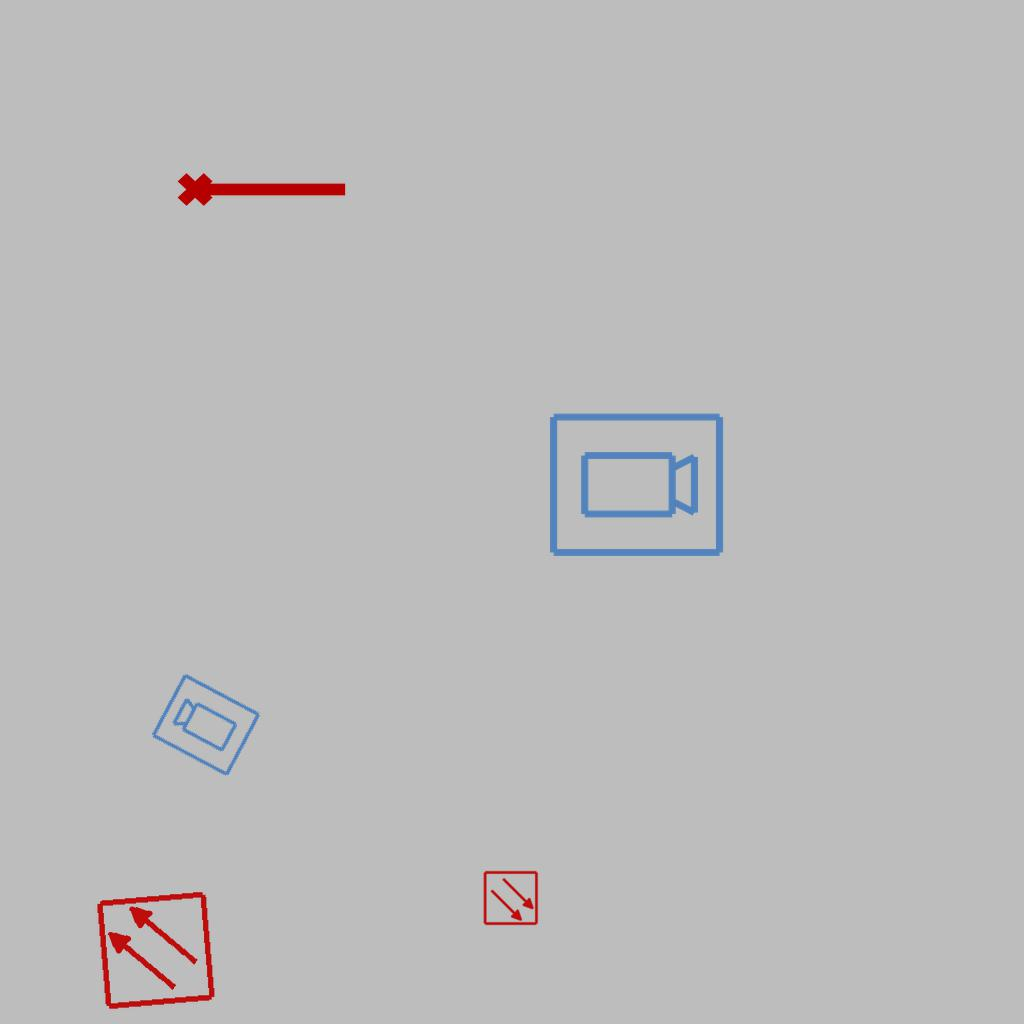ASR_Ansaugoeffnung: (175, 164, 351, 210)
KFO_Kamera_mit_Festobjektiv: (545, 409, 727, 563), (148, 669, 265, 780)
RMO_Rauchmelder_optischer: (94, 889, 217, 1012), (483, 870, 539, 926)
